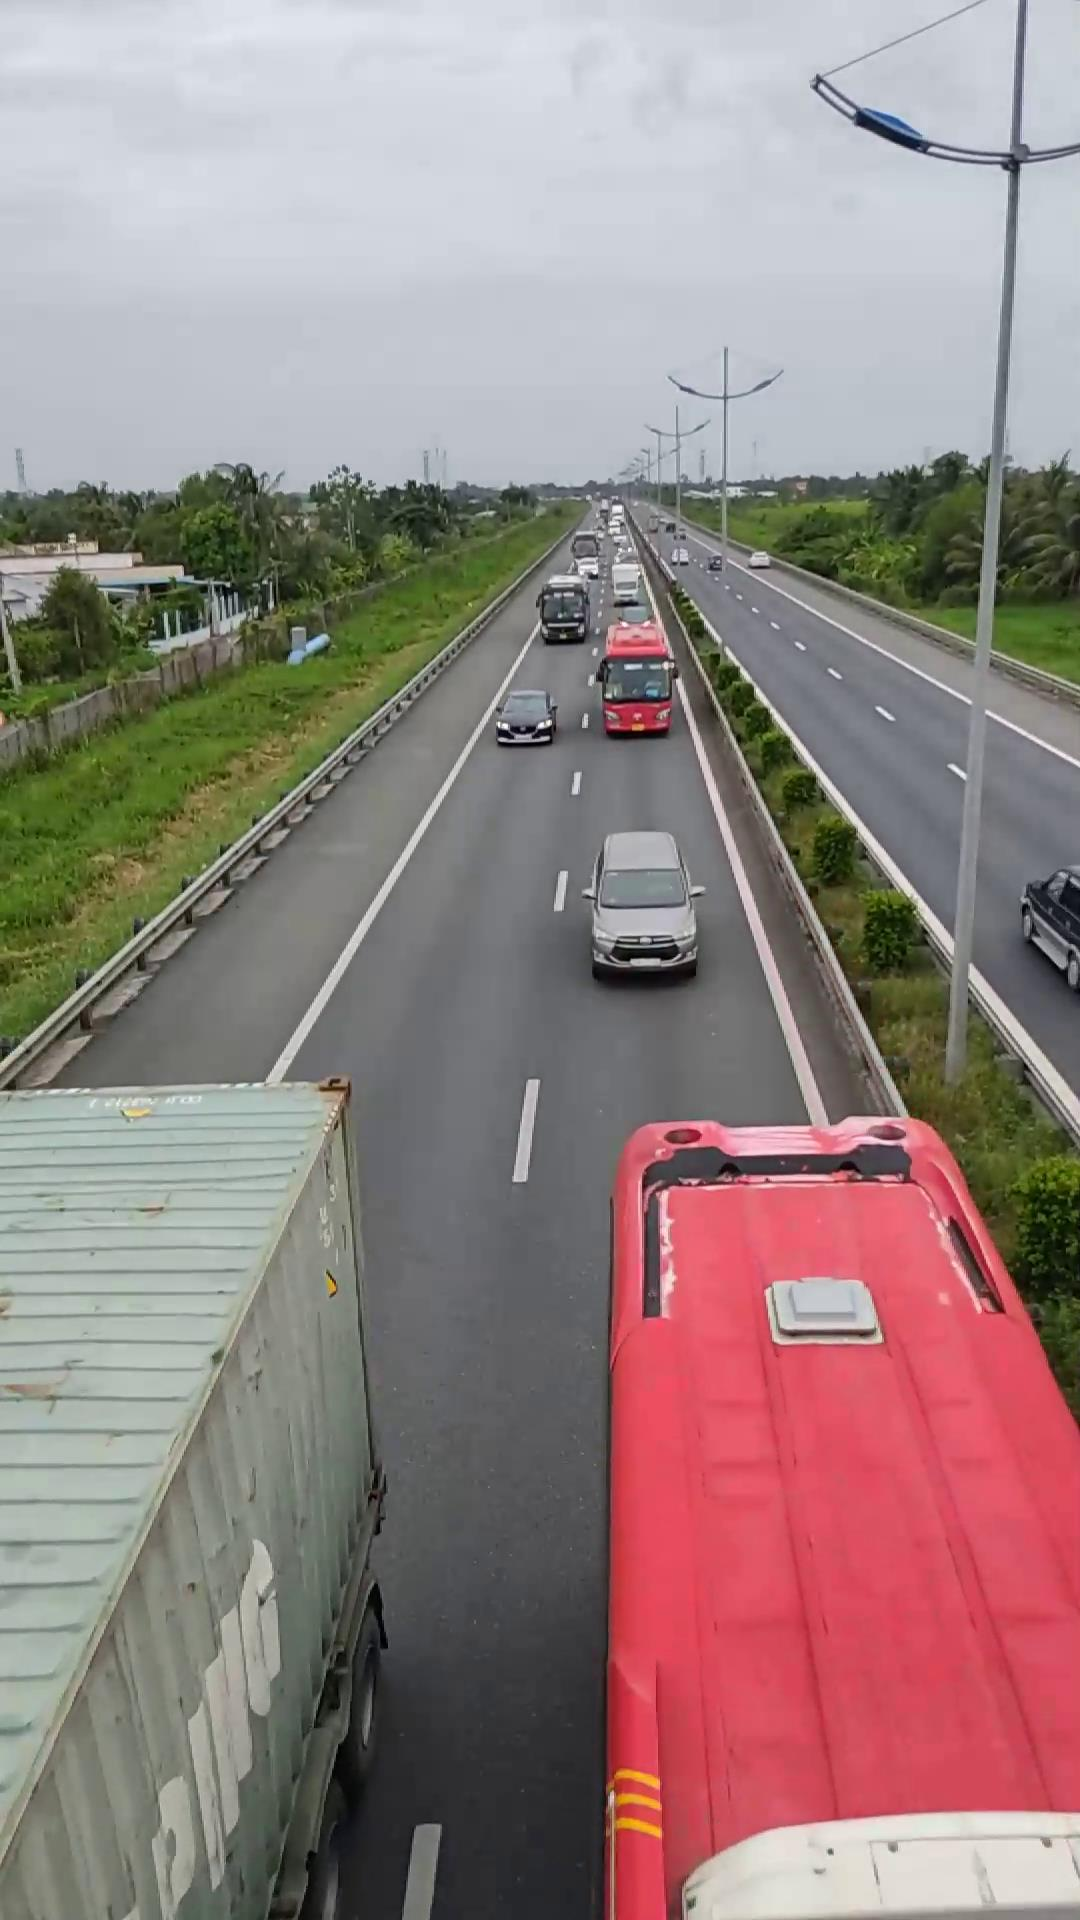bus: (610, 1115, 1078, 1912)
car: (580, 828, 702, 979)
container: (0, 1074, 402, 1917)
